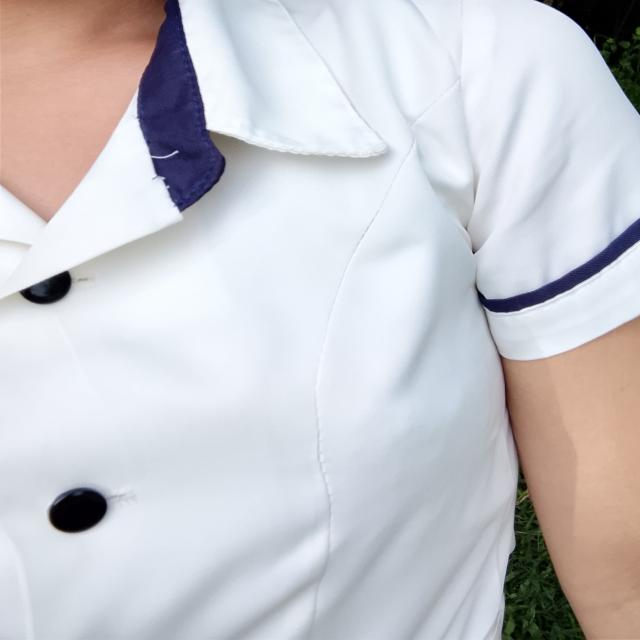education_female_uniform: (0, 2, 640, 546)
